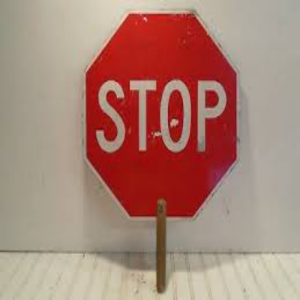STOP_SIGN: (83, 9, 239, 220)
